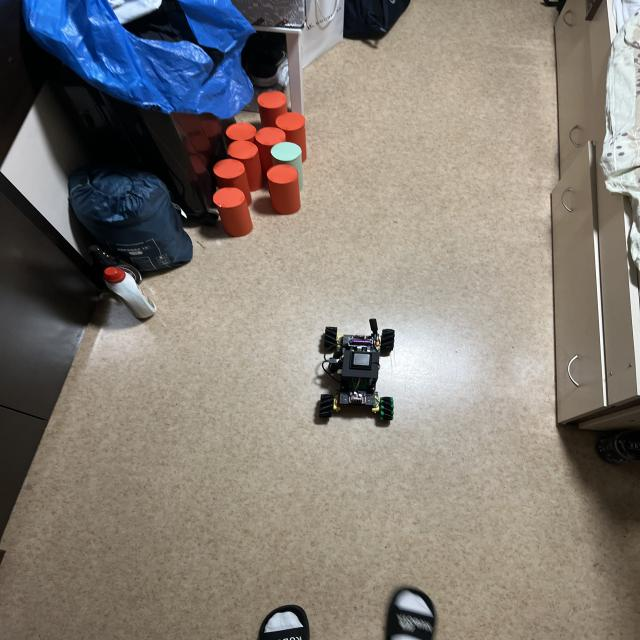robot: (318, 318, 394, 421)
